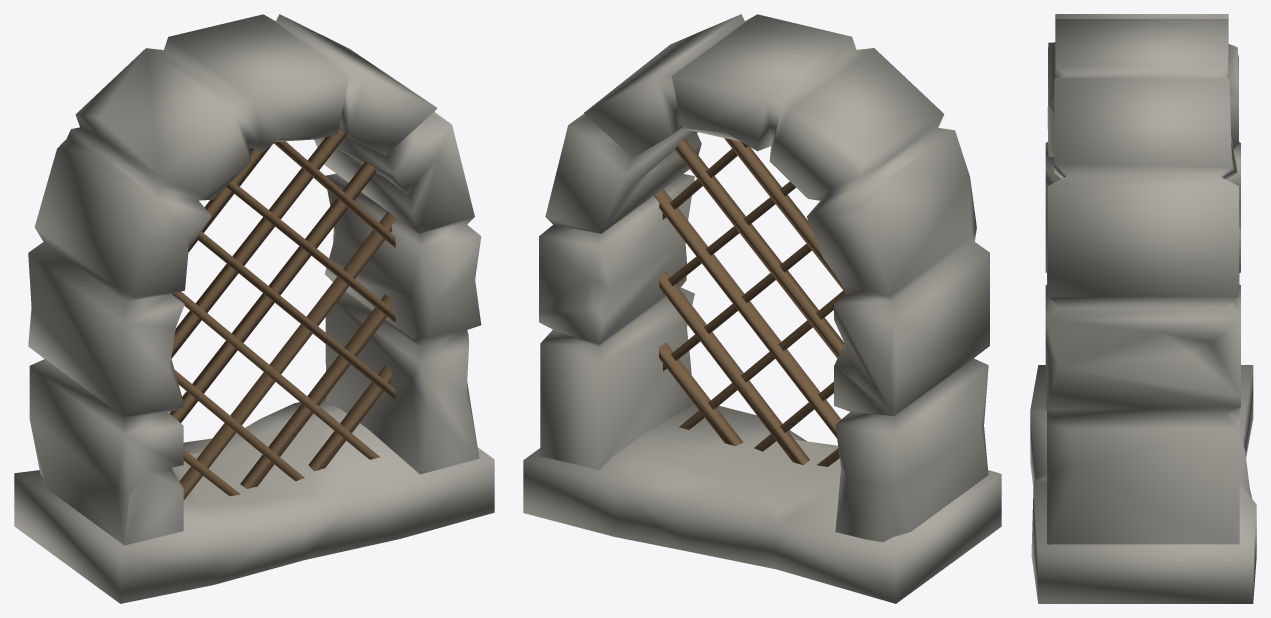
The model's file is rpgpp_ag_window_07c.fbx.
The picture shows the model from 3 angles, left to right: view 1: azimuth 30°, elevation 25°; view 2: azimuth 150°, elevation 25°; view 3: azimuth 270°, elevation 25°; orthographic projection.
Visible parts, largest first — view 1: rpgpp_ag_window_07c; view 2: rpgpp_ag_window_07c; view 3: rpgpp_ag_window_07c.
Boxes of the visible parts, left/top/right/bottom form: rpgpp_ag_window_07c: left=14, top=14, right=494, bottom=603; rpgpp_ag_window_07c: left=523, top=14, right=1001, bottom=603; rpgpp_ag_window_07c: left=1030, top=14, right=1256, bottom=603.
Size of the model in its own units: 1.24 by 1.47 by 0.6423.
